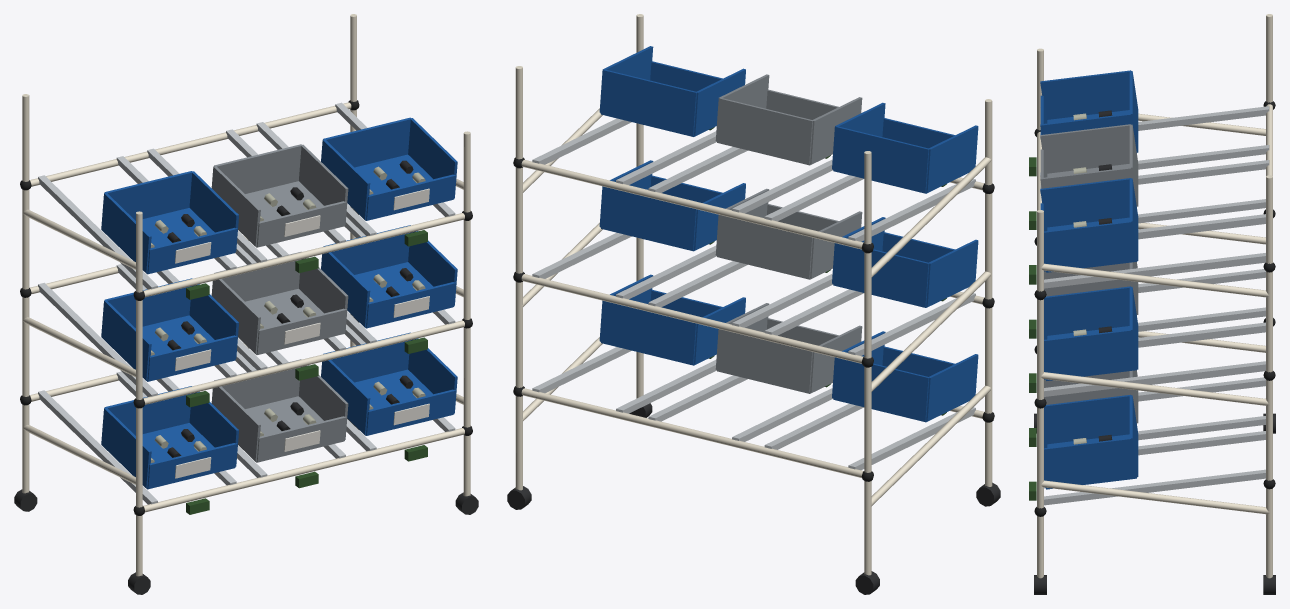
File: flowrack.glb
The picture shows the model from 3 angles, left to right: view 1: azimuth 30°, elevation 25°; view 2: azimuth 150°, elevation 25°; view 3: azimuth 270°, elevation 25°; orthographic projection. The views are drawn at different scales.
Parts seen in each view (by area): view 1: FlowRack__PipeIvory, FlowRack__Roller, Bin_6__BinBlue, Bin_8__BinBlue, Bin_7__BinGrey, Bin_3__BinBlue, Bin_0__BinBlue, Bin_4__BinGrey, Bin_5__BinBlue, Bin_1__BinGrey, Bin_2__BinBlue, FlowRack__Castor (+1 smaller); view 2: FlowRack__PipeIvory, FlowRack__Roller, Bin_6__BinBlue, Bin_7__BinGrey, Bin_8__BinBlue, Bin_3__BinBlue, Bin_0__BinBlue, Bin_5__BinBlue, Bin_1__BinGrey, Bin_4__BinGrey, Bin_2__BinBlue, FlowRack__Castor (+1 smaller); view 3: FlowRack__Roller, FlowRack__PipeIvory, Bin_8__BinBlue, Bin_2__BinBlue, Bin_5__BinBlue, Bin_7__BinGrey, Bin_6__BinBlue, Bin_4__BinGrey, Bin_1__BinGrey, FlowRack__JointBlack, FlowRack__Castor.
Boxes of the visible parts, left/top/right/bottom form: FlowRack__PipeIvory: left=22, top=14, right=470, bottom=576; FlowRack__Roller: left=38, top=102, right=455, bottom=504; Bin_6__BinBlue: left=101, top=171, right=238, bottom=274; Bin_8__BinBlue: left=321, top=117, right=457, bottom=220; Bin_7__BinGrey: left=211, top=144, right=348, bottom=247; Bin_3__BinBlue: left=101, top=278, right=238, bottom=381; Bin_0__BinBlue: left=101, top=386, right=238, bottom=489; Bin_4__BinGrey: left=211, top=251, right=348, bottom=354; Bin_5__BinBlue: left=321, top=225, right=457, bottom=328; Bin_1__BinGrey: left=211, top=359, right=348, bottom=462; Bin_2__BinBlue: left=321, top=332, right=457, bottom=435; FlowRack__Castor: left=14, top=418, right=478, bottom=594; FlowRack__PipeIvory: left=515, top=14, right=992, bottom=575; FlowRack__Roller: left=532, top=118, right=975, bottom=470; Bin_6__BinBlue: left=832, top=102, right=978, bottom=193; Bin_7__BinGrey: left=715, top=74, right=862, bottom=165; Bin_8__BinBlue: left=599, top=46, right=745, bottom=136; Bin_3__BinBlue: left=832, top=217, right=978, bottom=307; Bin_0__BinBlue: left=832, top=331, right=978, bottom=422; Bin_5__BinBlue: left=599, top=160, right=745, bottom=251; Bin_1__BinGrey: left=715, top=303, right=862, bottom=393; Bin_4__BinGrey: left=715, top=188, right=862, bottom=279; Bin_2__BinBlue: left=599, top=274, right=745, bottom=365; FlowRack__Castor: left=507, top=403, right=1000, bottom=594; FlowRack__Roller: left=1040, top=106, right=1269, bottom=505; FlowRack__PipeIvory: left=1037, top=14, right=1272, bottom=578; Bin_8__BinBlue: left=1040, top=178, right=1138, bottom=272; Bin_2__BinBlue: left=1044, top=394, right=1138, bottom=489; Bin_5__BinBlue: left=1044, top=286, right=1138, bottom=380; Bin_7__BinGrey: left=1040, top=124, right=1138, bottom=206; Bin_6__BinBlue: left=1040, top=70, right=1138, bottom=152; Bin_4__BinGrey: left=1044, top=262, right=1138, bottom=314; Bin_1__BinGrey: left=1044, top=370, right=1138, bottom=423; FlowRack__JointBlack: left=1034, top=101, right=1275, bottom=516; FlowRack__Castor: left=1034, top=413, right=1275, bottom=594.
Size of what is drawn, in the model's own units: 1.58 by 1.81 by 0.97.
